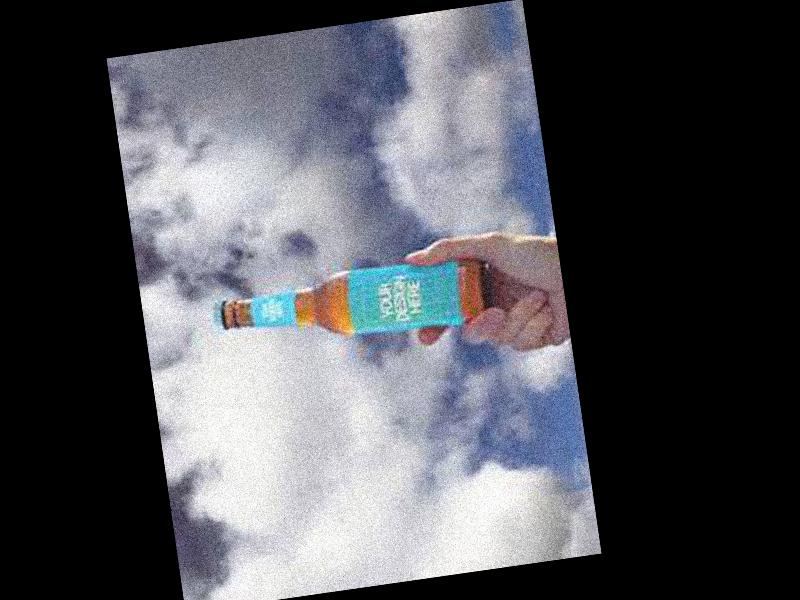Beer: (211, 251, 491, 352)
